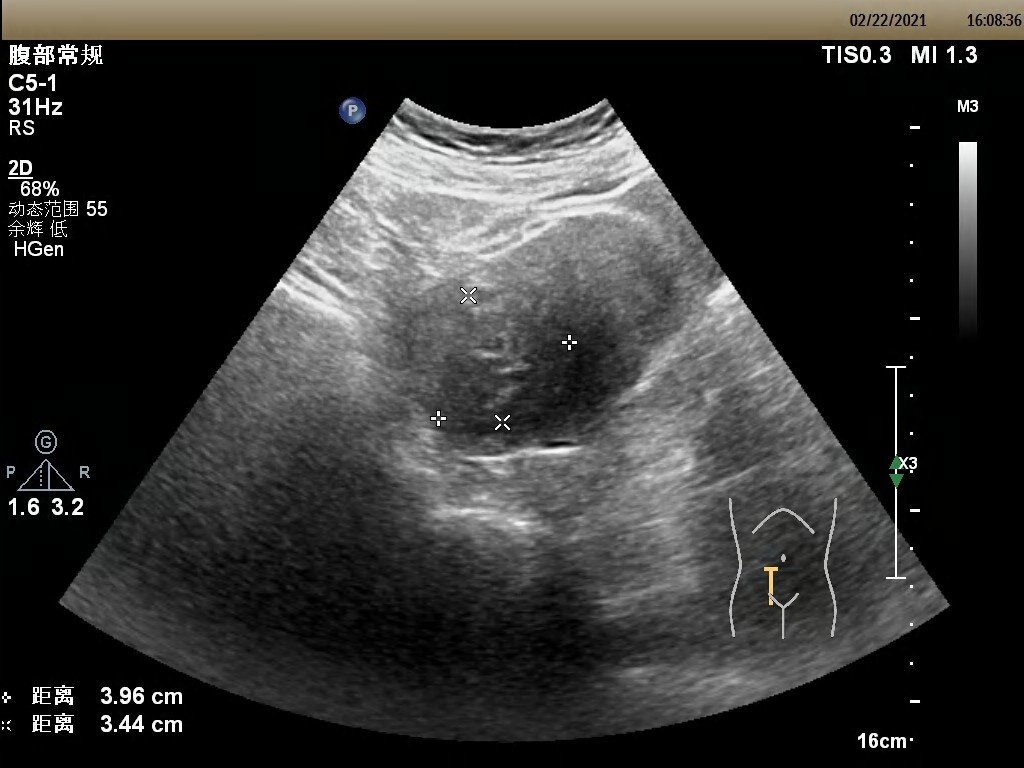肌瘤: (439, 301, 559, 423)
